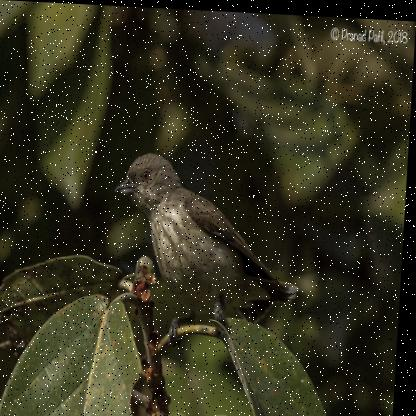Burung: (107, 147, 307, 322)
